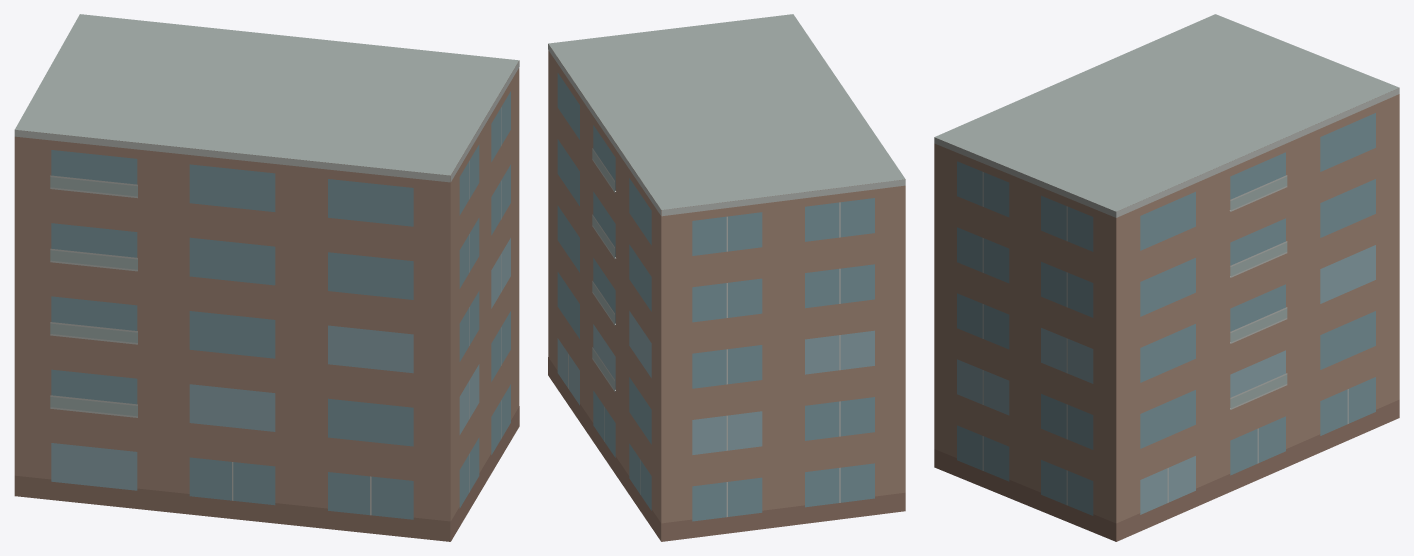
Rendered from survey-upis-32643229.glb.
The picture shows the model from 3 angles, left to right: view 1: azimuth 30°, elevation 25°; view 2: azimuth 150°, elevation 25°; view 3: azimuth 270°, elevation 25°; orthographic projection. The views are drawn at different scales.
Visible parts, largest first — view 1: survey-upis-32643229.tmp; view 2: survey-upis-32643229.tmp; view 3: survey-upis-32643229.tmp.
Boxes of the visible parts, <box> form: survey-upis-32643229.tmp: <box>14,14,519,541</box>; survey-upis-32643229.tmp: <box>548,14,905,541</box>; survey-upis-32643229.tmp: <box>934,14,1399,541</box>.
Size of the model in its own units: 16.71 by 13 by 16.62.
